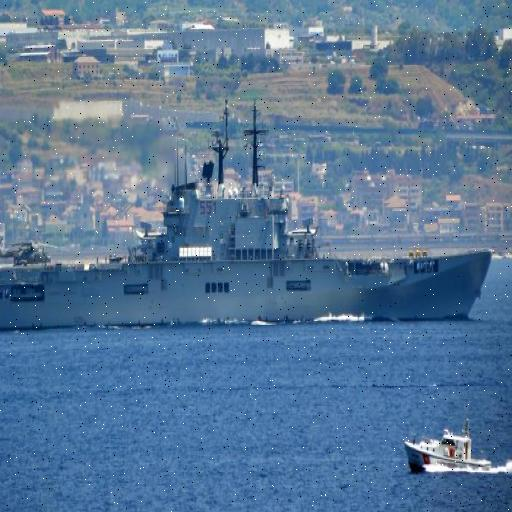Portanaves: (1, 103, 499, 327)
